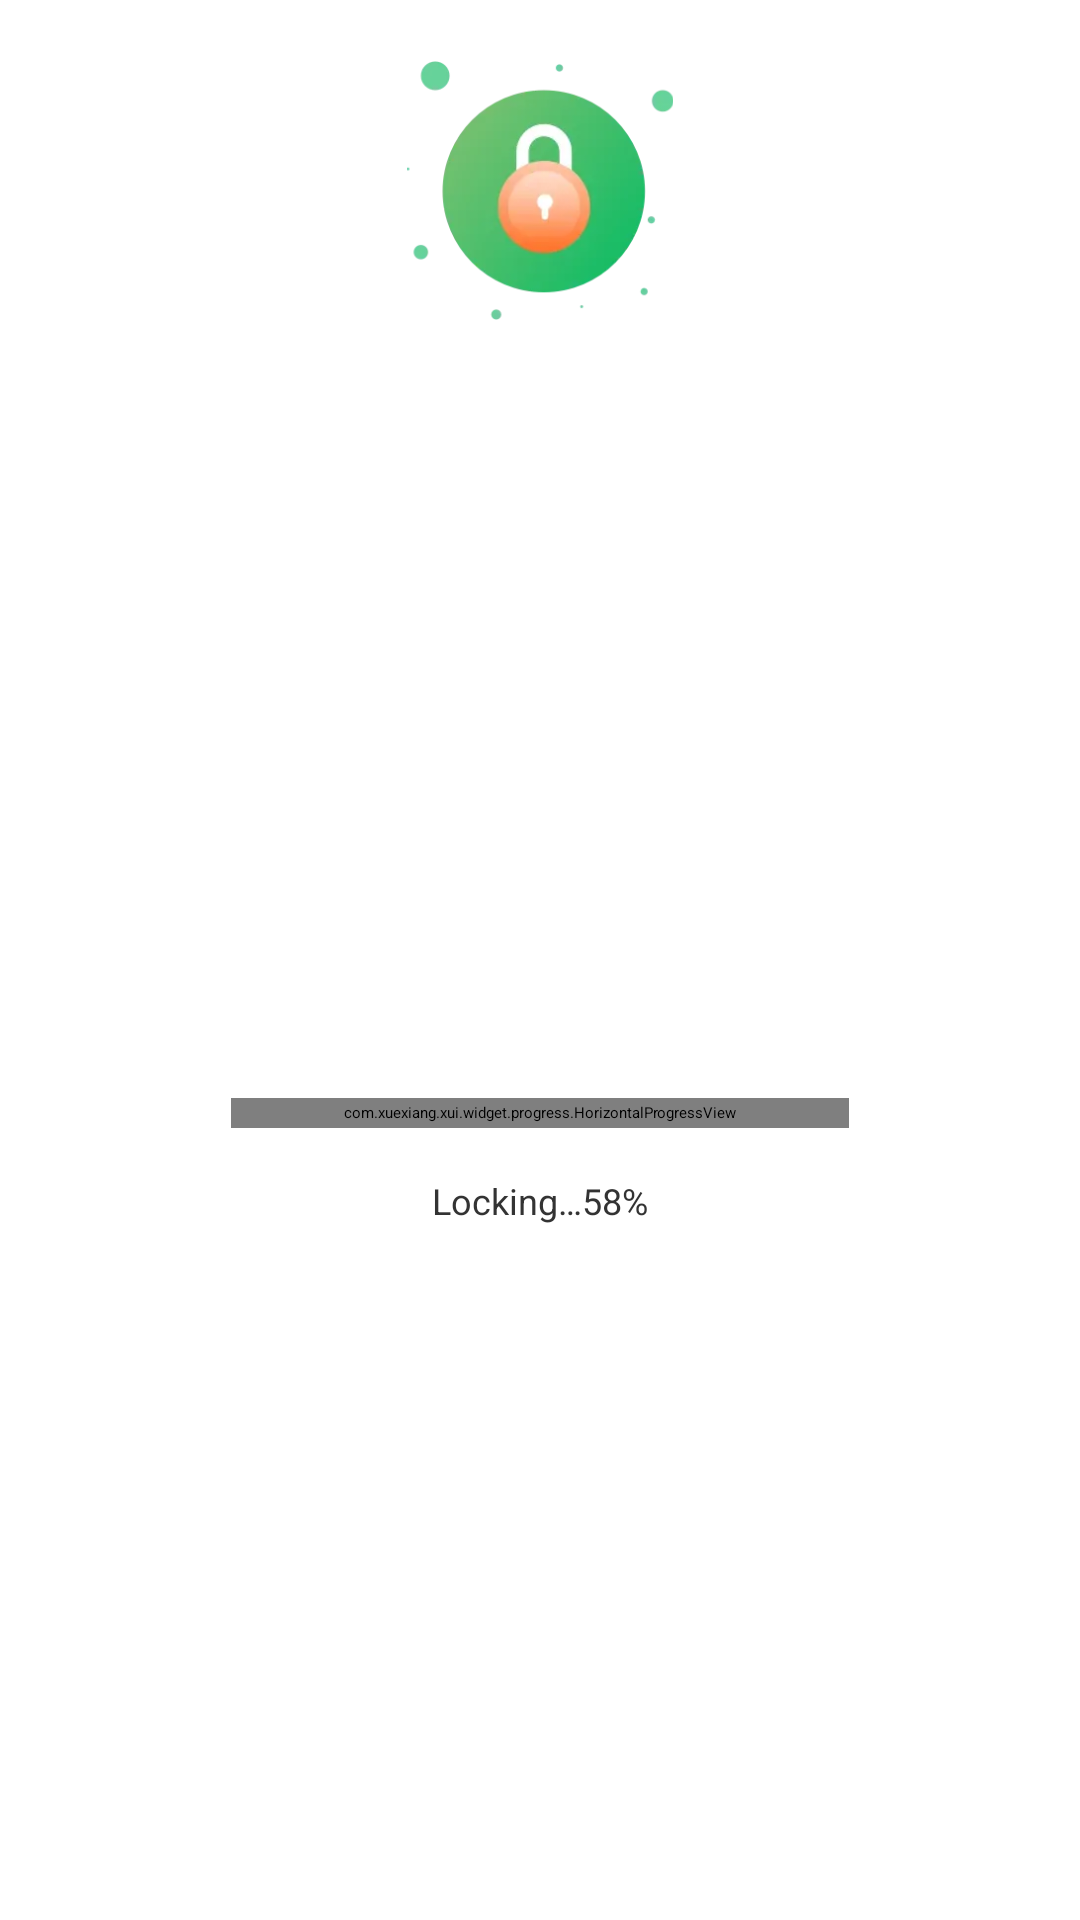

Icons on this 1080w x 1920h Android screen, each with its box as (left=x1, top=y1, right=x2, bottom=y2):
lock: (left=407, top=61, right=673, bottom=320)
